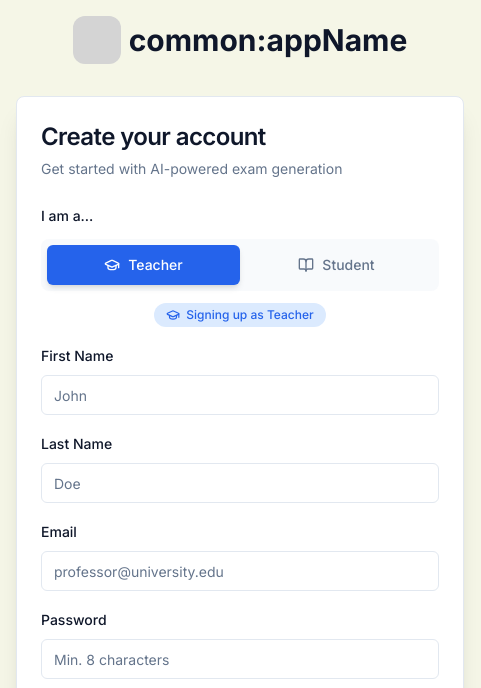
Test: RegisterForm › Role Toggle › should switch to STUDENT role when student button is clicked
Step 1. Click the button "Student" → (336, 265), box [240,245,433,285]
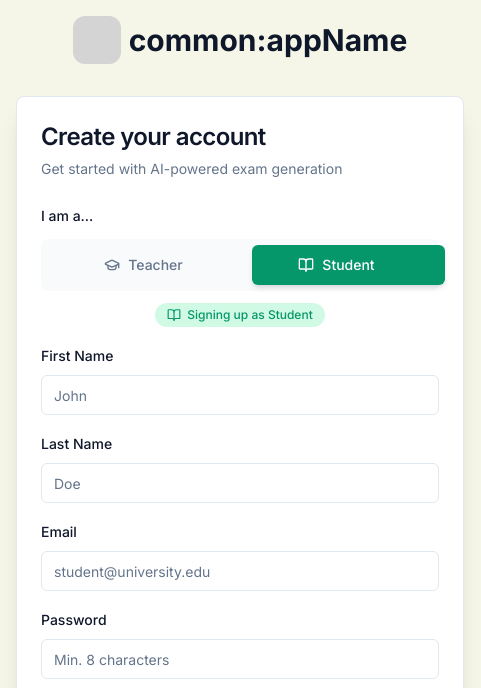
expect the text "Signing up as Student" is shown: met, box [187,307,313,323]
